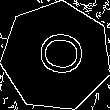O_W: (29, 32, 84, 81)
